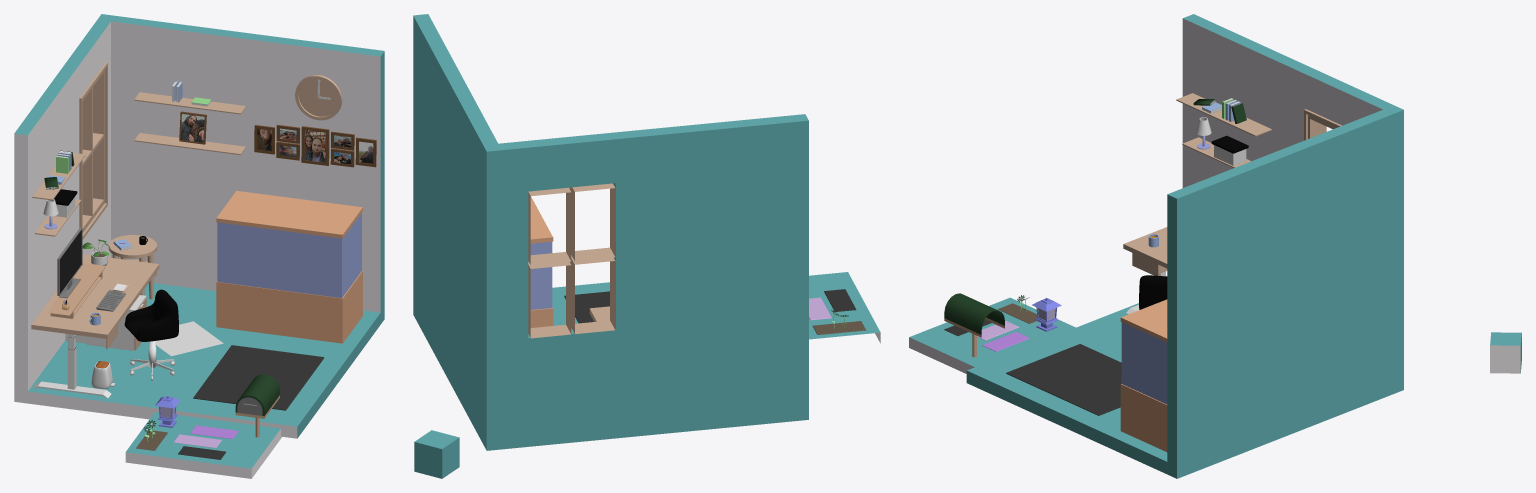
Rendered from newSceneJakubPortfolio.glb.
3 renders of one model, left to right at view 1: azimuth 30°, elevation 25°; view 2: azimuth 150°, elevation 25°; view 3: azimuth 270°, elevation 25°, orthographic. The views are drawn at different scales.
Visible parts, largest first — view 1: Body, Aquarium, Shelves, Desks, Floor Items, Mini Floor, Table Stuff, Chair, Clock, Mailbox, Computer, Plane (+5 smaller); view 2: Body, Mini Floor, Aquarium, Cube, Floor Items, Dirt, FloorThird; view 3: Body, Aquarium, Floor Items, Mini Floor, Shelves, Mailbox, Desks, Cube, Chair, Lamp.
Part boxes in pixels (x1=…): Body: x1=14, y1=14, x2=384, y2=438; Aquarium: x1=216, y1=190, x2=362, y2=343; Shelves: x1=32, y1=81, x2=376, y2=236; Desks: x1=31, y1=235, x2=159, y2=398; Floor Items: x1=87, y1=295, x2=324, y2=410; Mini Floor: x1=125, y1=412, x2=281, y2=478; Table Stuff: x1=48, y1=236, x2=147, y2=325; Chair: x1=124, y1=289, x2=178, y2=341; Clock: x1=295, y1=75, x2=342, y2=120; Mailbox: x1=235, y1=374, x2=279, y2=437; Computer: x1=57, y1=227, x2=82, y2=298; Plane: x1=155, y1=321, x2=223, y2=356; Body: x1=413, y1=14, x2=808, y2=450; Mini Floor: x1=809, y1=272, x2=880, y2=343; Aquarium: x1=530, y1=196, x2=553, y2=327; Cube: x1=414, y1=430, x2=459, y2=478; Floor Items: x1=564, y1=291, x2=609, y2=323; Dirt: x1=812, y1=321, x2=865, y2=334; FloorThird: x1=824, y1=289, x2=856, y2=311; Body: x1=966, y1=14, x2=1403, y2=478; Aquarium: x1=1120, y1=299, x2=1167, y2=451; Floor Items: x1=1006, y1=344, x2=1121, y2=415; Mini Floor: x1=909, y1=297, x2=1075, y2=373; Shelves: x1=1176, y1=93, x2=1271, y2=167; Mailbox: x1=944, y1=293, x2=1004, y2=357; Desks: x1=1123, y1=227, x2=1167, y2=313; Cube: x1=1490, y1=332, x2=1521, y2=373; Chair: x1=1139, y1=275, x2=1167, y2=309; Lamp: x1=1032, y1=298, x2=1061, y2=331.
Size of the model in its own units: 27.58 by 19.65 by 38.64.
57 materials, 8 textured.
